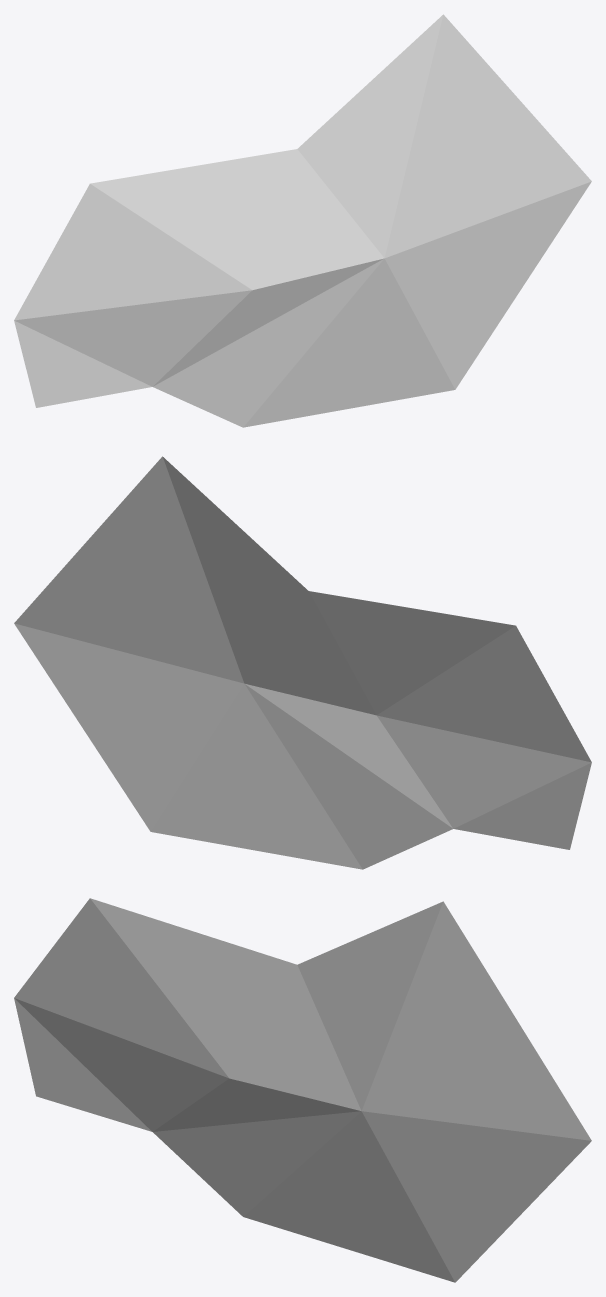
File: SM_Env_Ivy_07.glb
The picture shows the model from 3 angles, top to bottom: view 1: azimuth 30°, elevation 25°; view 2: azimuth 150°, elevation 25°; view 3: azimuth 330°, elevation 25°; orthographic projection.
Parts seen in each view (by area): view 1: SM_Env_Ivy_07; view 2: SM_Env_Ivy_07; view 3: SM_Env_Ivy_07.
Part boxes in pixels (bbox=[...]): SM_Env_Ivy_07: bbox=[14, 14, 591, 427]; SM_Env_Ivy_07: bbox=[14, 456, 591, 869]; SM_Env_Ivy_07: bbox=[14, 898, 591, 1282].
Size of the model in its own units: 1.1 by 0.6895 by 0.038.
Materials: 1 (1 with a texture image).
